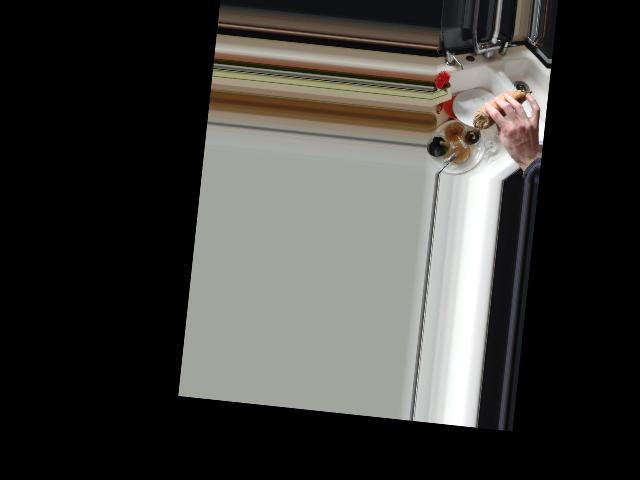sweet_potato: (474, 85, 533, 134)
